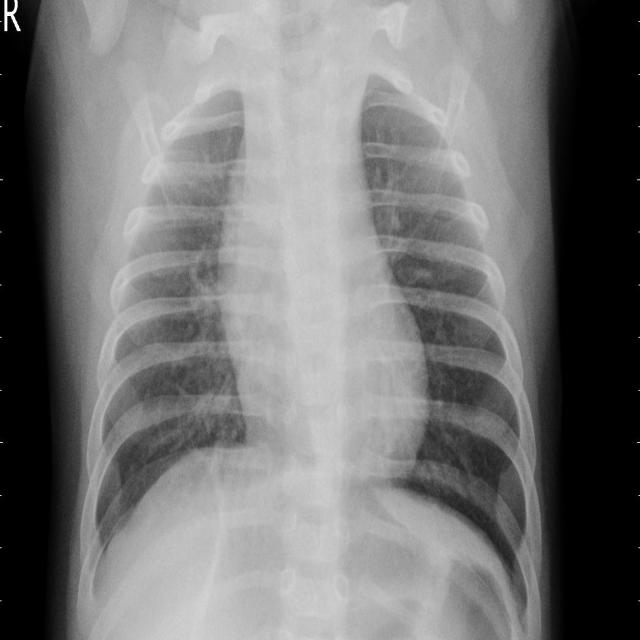low-pneumonia: (372, 85, 463, 264), (140, 91, 238, 238)
